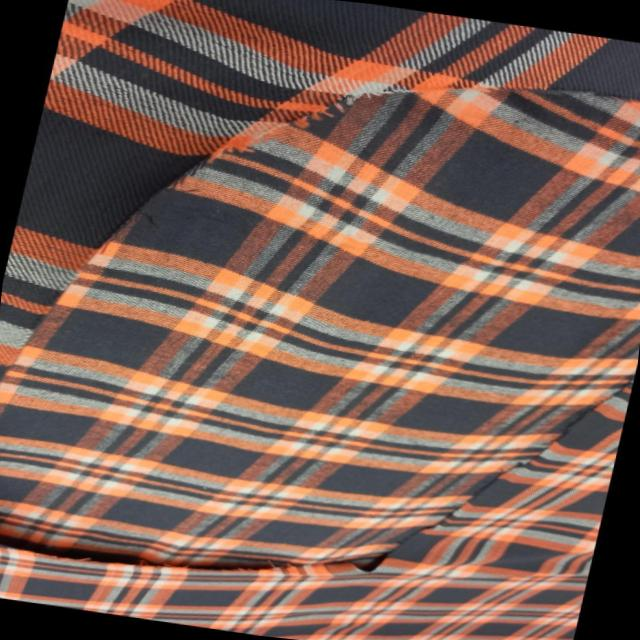cut: (0, 67, 245, 533), (0, 507, 445, 619), (303, 44, 640, 157)
